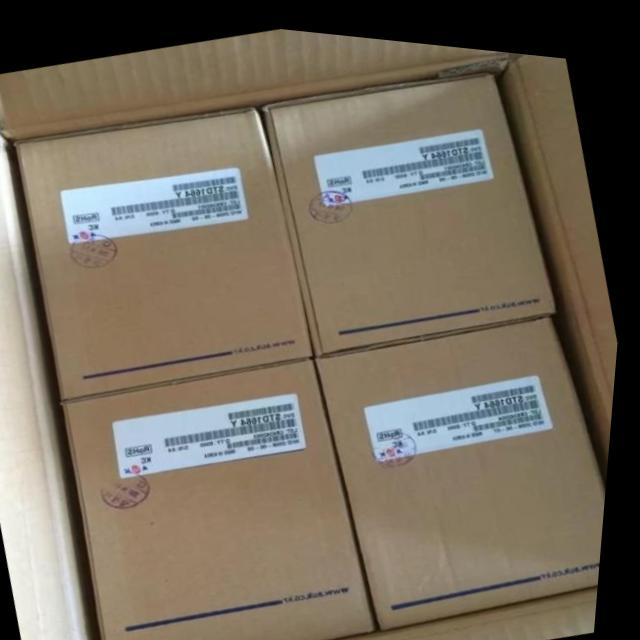box: (320, 305, 612, 621), (70, 350, 387, 640), (16, 101, 320, 400), (264, 62, 563, 350)
